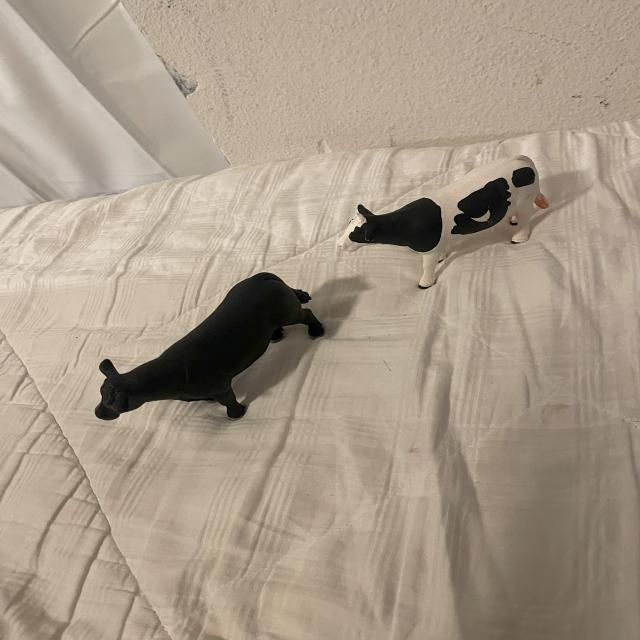cow: (66, 264, 338, 437), (341, 110, 546, 287)
